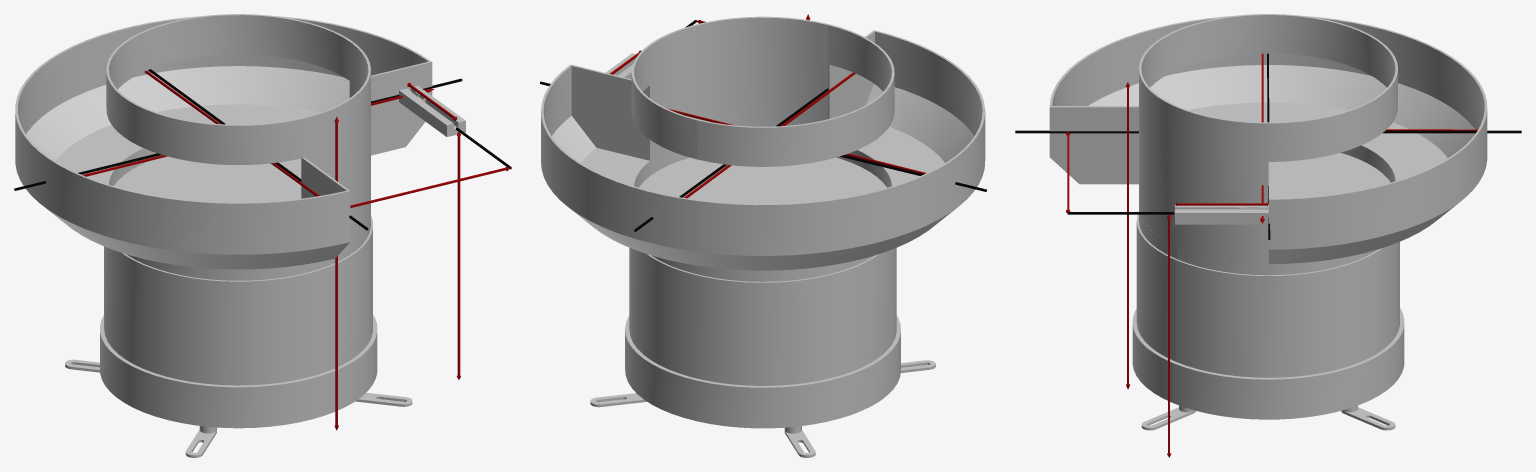
Rendered from bowl.glb.
3 views of the same model, side by side, from view 1: azimuth 30°, elevation 25°; view 2: azimuth 150°, elevation 25°; view 3: azimuth 270°, elevation 25° (orthographic). The views are drawn at different scales.
Visible parts, largest first — view 1: empty_2, empty_3, Cube, Cube.001, Cube.005, Cone.001; view 2: empty_2, empty_3, Cone.003, Cube.004; view 3: empty_2, empty_3, Cube.004, Cube.001.
Boxes of the visible parts, x1,y1,x2,y2 form: empty_2: (15,14,465,269); empty_3: (65,213,412,457); Cube: (456,132,460,379); Cube.001: (334,116,338,430); Cube.005: (14,78,462,190); Cone.001: (350,167,509,207); empty_2: (541,16,985,270); empty_3: (590,247,935,457); Cone.003: (684,72,855,198); Cube.004: (634,88,828,231); empty_2: (1049,14,1487,264); empty_3: (1132,210,1404,430); Cube.004: (1015,130,1521,133); Cube.001: (1125,82,1129,389).
Size of the model in its own units: 597 by 401 by 597.
